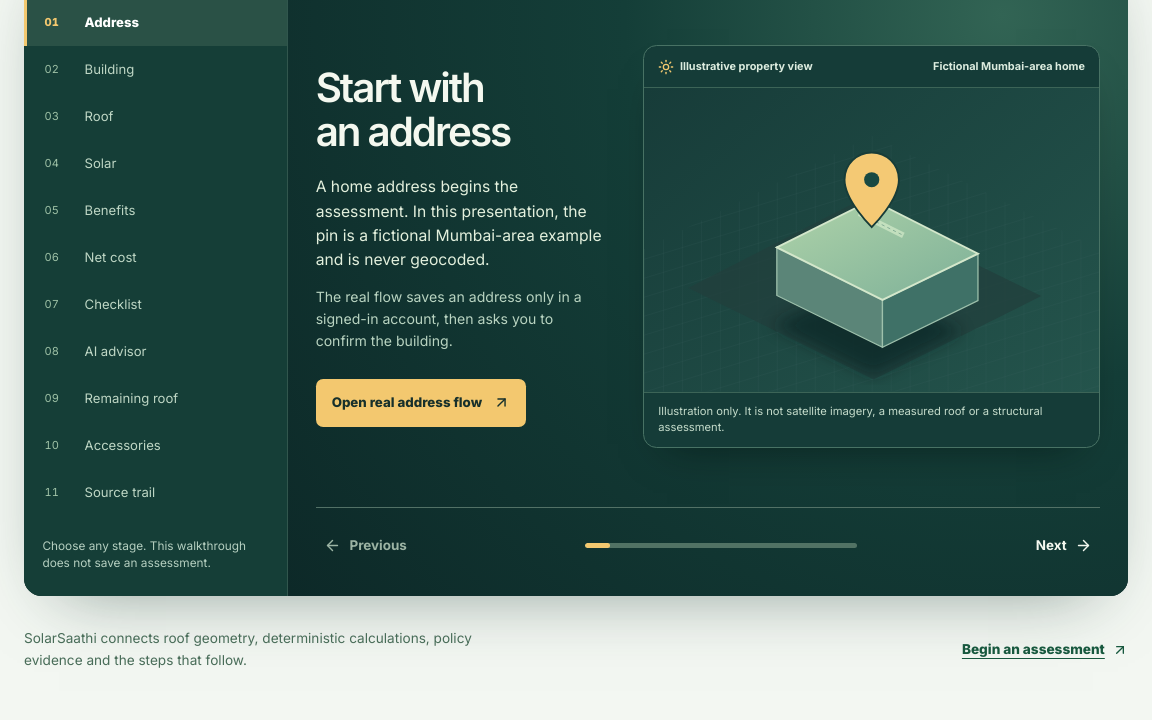
guided synthetic demo › reveals approximate house bounds only after an explicit sample-house selection
The width and height of the screenshot is (1152, 720).
(page scrolled)
Expected: the heading "Start with an address" is shown, [316,63,510,156]
Click the button "Next" at (1064, 546), box [1027,524,1100,568]
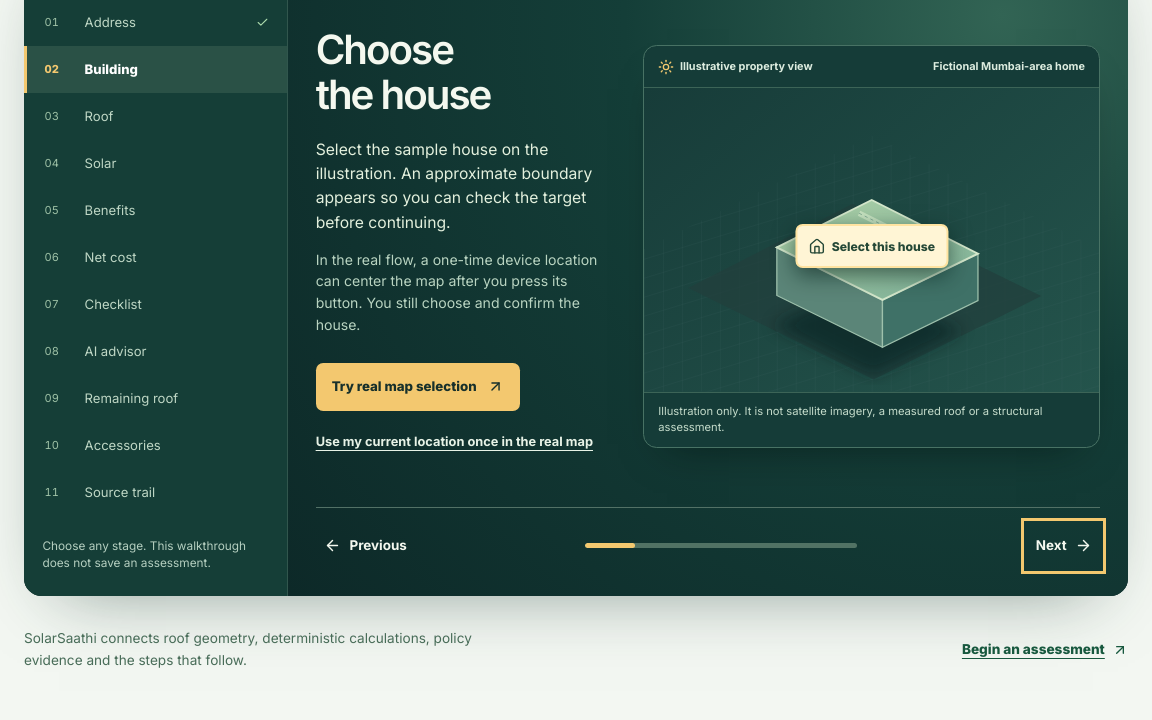
Expected: the text "Approximate bounds overlay" is not shown
Expected: the heading "Choose the house" is shown, [316,25,490,118]
Click the button with aria-label "Select the sample house on the illustrative map" at (872, 246), box [795,224,948,268]
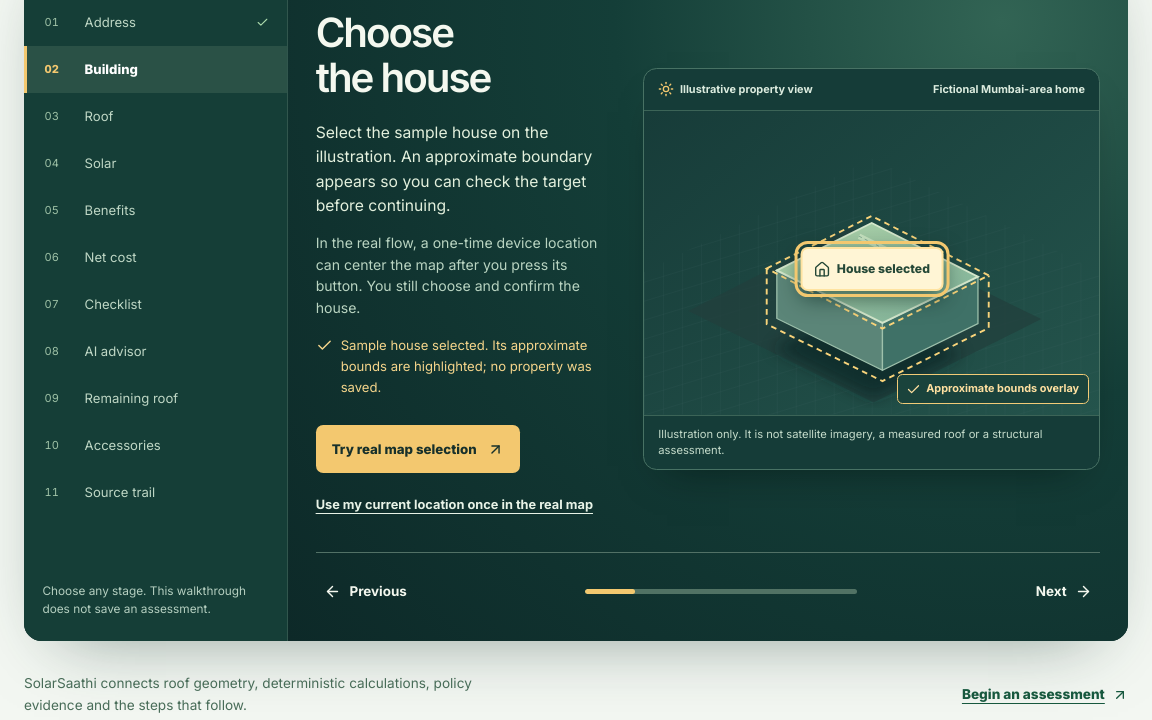
Expected: the text "Approximate bounds overlay" is shown, [897,374,1089,404]
Expected: the text "no property was saved" is shown, [341,337,592,395]
Click the button "Previous" at (366, 591), box [316,569,416,613]
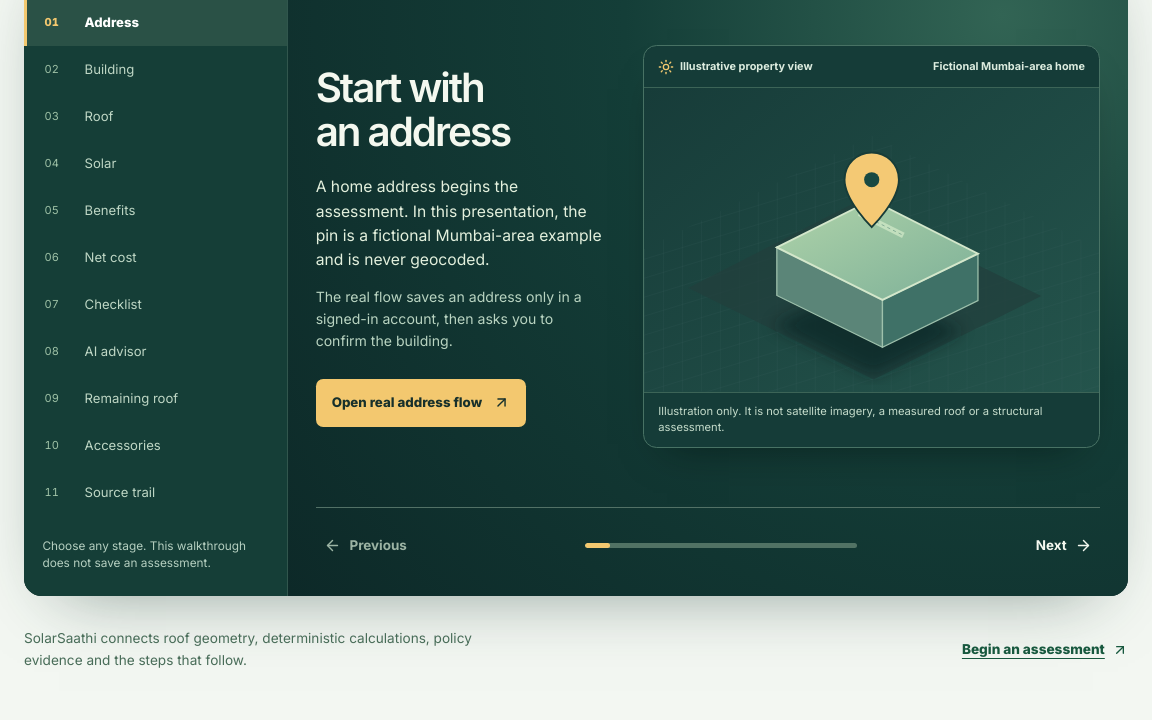
Expected: the heading "Start with an address" is shown, [316,63,510,156]
